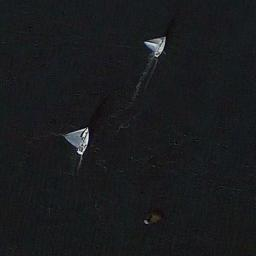boat: (62, 124, 90, 155), (143, 35, 167, 59)
